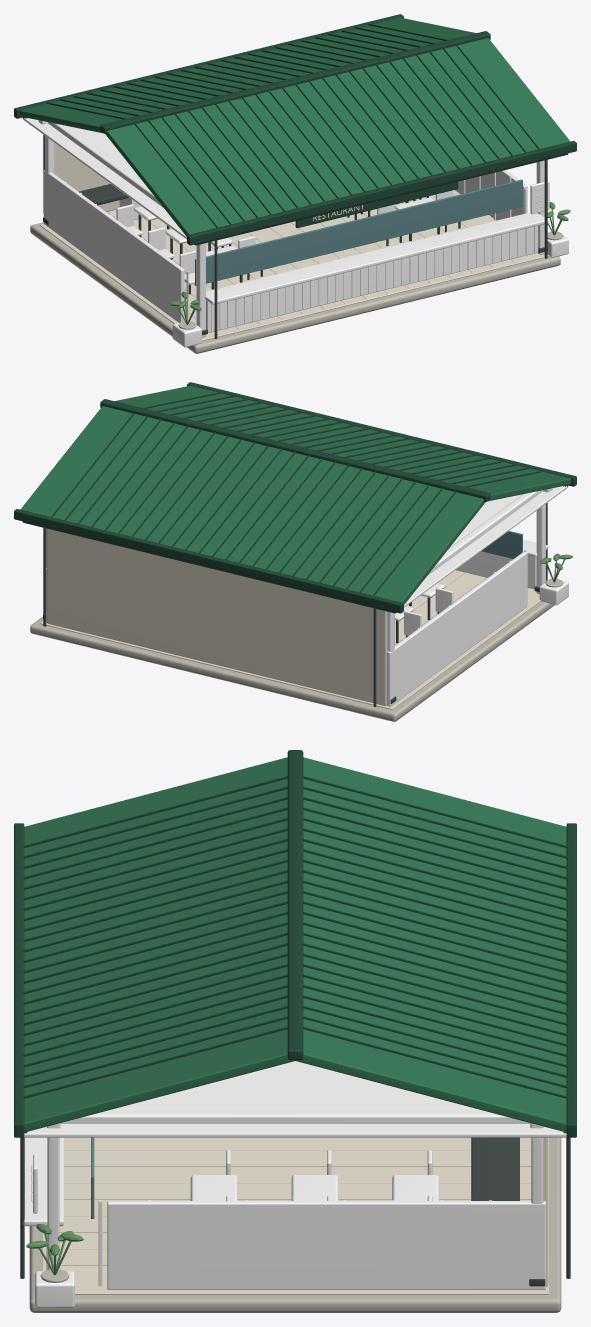
The model's file is restaurant_pavillon_baie_des_rois_large.glb.
3 views of the same model, one above another, from view 1: azimuth 30°, elevation 25°; view 2: azimuth 150°, elevation 25°; view 3: azimuth 270°, elevation 25° (orthographic). The views are drawn at different scales.
Visible parts, largest first — view 1: Pan_toiture_vert_deux_pans, Pan_toiture_vert_deux_pans.001, Credence_comptoir, Facade_comptoir, Claustra_lateral_bas, Carrelage_interieur, Socle_beton, Plan_comptoir, Bandeau_rive_longitudinale, Faitage_metallique, Sous_face_bois, Bandeau_rive_longitudinale.001 (+9 smaller); view 2: Pan_toiture_vert_deux_pans.001, Mur_arriere_enduit, Pan_toiture_vert_deux_pans, Claustra_lateral_bas, Socle_beton, Bandeau_rive_longitudinale.001, Carrelage_interieur, Faitage_metallique, Sous_face_bois, Bandeau_rive_longitudinale, Poutre_transversale, Facade_comptoir (+4 smaller); view 3: Pan_toiture_vert_deux_pans, Pan_toiture_vert_deux_pans.001, Claustra_lateral_bas.001, Carrelage_interieur, Sous_face_bois, Socle_beton, Poutre_transversale.001, Faitage_metallique, Bandeau_rive_longitudinale, Bandeau_rive_longitudinale.001, Plan_travail_cuisine, Plan_comptoir (+58 smaller).
Boxes of the visible parts, box(x1,y1,x2,y2) form: Pan_toiture_vert_deux_pans: box(105, 38, 570, 236); Pan_toiture_vert_deux_pans.001: box(19, 17, 476, 133); Credence_comptoir: box(195, 179, 522, 285); Facade_comptoir: box(206, 226, 538, 332); Claustra_lateral_bas: box(43, 170, 184, 322); Carrelage_interieur: box(40, 190, 549, 340); Socle_beton: box(30, 222, 560, 353); Plan_comptoir: box(205, 212, 548, 304); Bandeau_rive_longitudinale: box(187, 141, 576, 245); Faitage_metallique: box(100, 31, 490, 133); Sous_face_bois: box(23, 118, 194, 244); Bandeau_rive_longitudinale.001: box(14, 14, 403, 118); Pan_toiture_vert_deux_pans.001: box(20, 406, 485, 604); Mur_arriere_enduit: box(47, 528, 387, 705); Pan_toiture_vert_deux_pans: box(114, 385, 571, 501); Claustra_lateral_bas: box(386, 551, 527, 706); Socle_beton: box(30, 601, 554, 721); Bandeau_rive_longitudinale.001: box(14, 509, 403, 613); Carrelage_interieur: box(40, 570, 540, 709); Faitage_metallique: box(100, 399, 490, 501); Sous_face_bois: box(396, 486, 567, 612); Bandeau_rive_longitudinale: box(187, 382, 576, 486); Poutre_transversale: box(427, 490, 542, 575); Facade_comptoir: box(455, 551, 536, 589); Pan_toiture_vert_deux_pans: box(24, 757, 295, 1132); Pan_toiture_vert_deux_pans.001: box(295, 757, 566, 1132); Claustra_lateral_bas.001: box(107, 1201, 545, 1289); Carrelage_interieur: box(42, 1137, 548, 1294); Sous_face_bois: box(24, 1061, 566, 1137); Socle_beton: box(29, 1137, 561, 1312); Poutre_transversale.001: box(60, 1111, 530, 1123); Faitage_metallique: box(287, 750, 303, 1059); Bandeau_rive_longitudinale: box(14, 823, 24, 1137); Bandeau_rive_longitudinale.001: box(566, 823, 576, 1137); Plan_travail_cuisine: box(471, 1137, 519, 1200); Plan_comptoir: box(23, 1137, 63, 1226).
Bounding box in the file's own units: 11.25 × 4.62 × 8.66.
